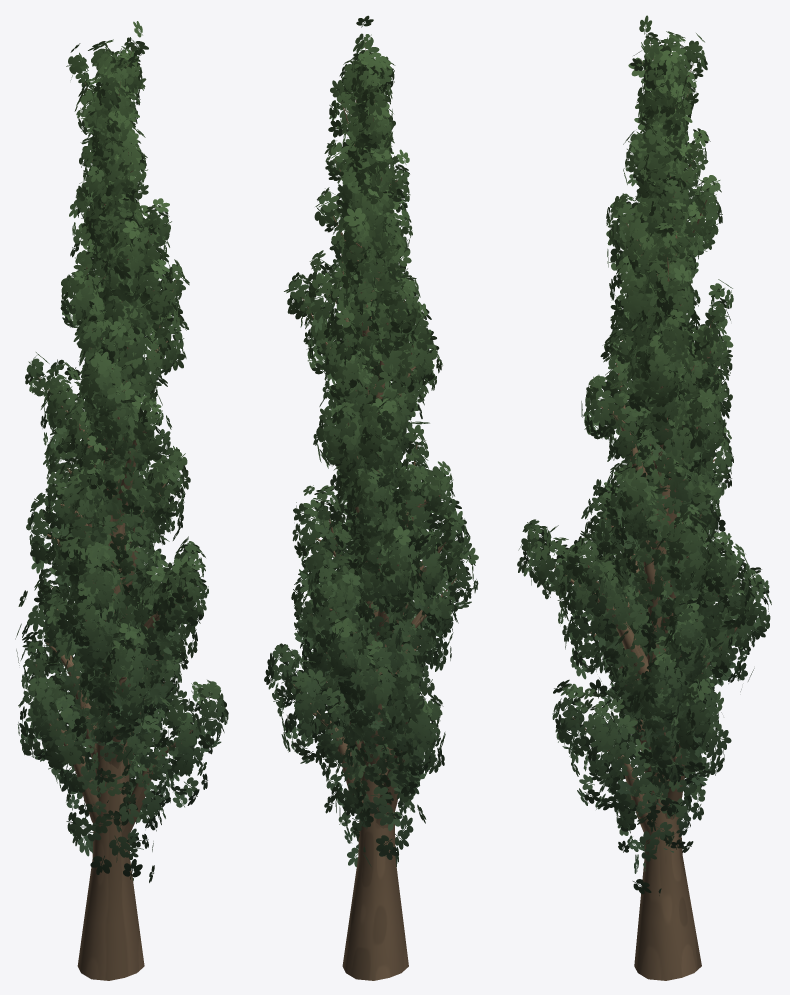
The model's file is tree.gltf.
3 views of the same model, side by side, from view 1: azimuth 30°, elevation 25°; view 2: azimuth 150°, elevation 25°; view 3: azimuth 270°, elevation 25° (orthographic).
Visible parts, largest first — view 1: Tree_LOD0; view 2: Tree_LOD0; view 3: Tree_LOD0.
Part boxes in pixels (x1=…): Tree_LOD0: x1=15, y1=21, x2=228, y2=980; Tree_LOD0: x1=264, y1=15, x2=478, y2=980; Tree_LOD0: x1=517, y1=15, x2=771, y2=980.
Bounding box in the file's own units: 6.03 × 30.53 × 7.54.
Materials: 2 (2 with a texture image).
